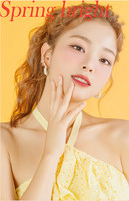겨울 쿨톤: (53, 26, 114, 104)
